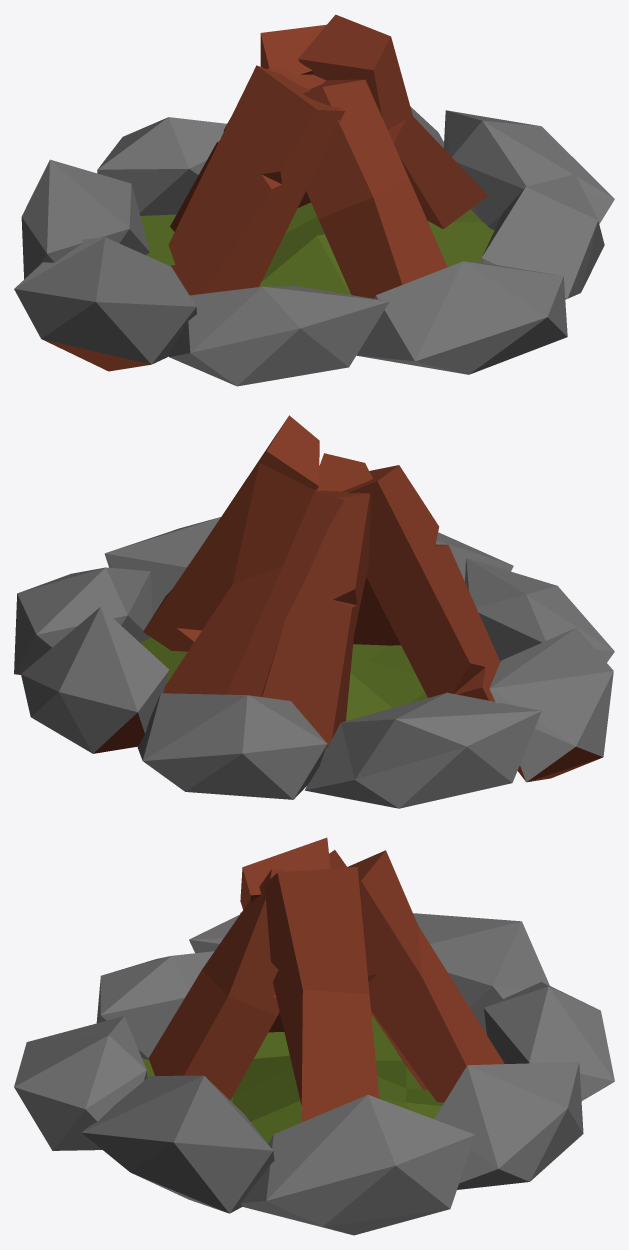
Rendered from koster.fbx.
3 renders of one model, top to bottom at view 1: azimuth 30°, elevation 25°; view 2: azimuth 150°, elevation 25°; view 3: azimuth 270°, elevation 25°, orthographic. The views are drawn at different scales.
Visible parts, largest first — view 1: Campfire; view 2: Campfire; view 3: Campfire.
Part boxes in pixels (box(x1,y1,x2,y2)): Campfire: box(14, 14, 614, 386); Campfire: box(14, 415, 614, 808); Campfire: box(14, 837, 614, 1235).
Bounding box in the file's own units: 213 × 104 × 197.
